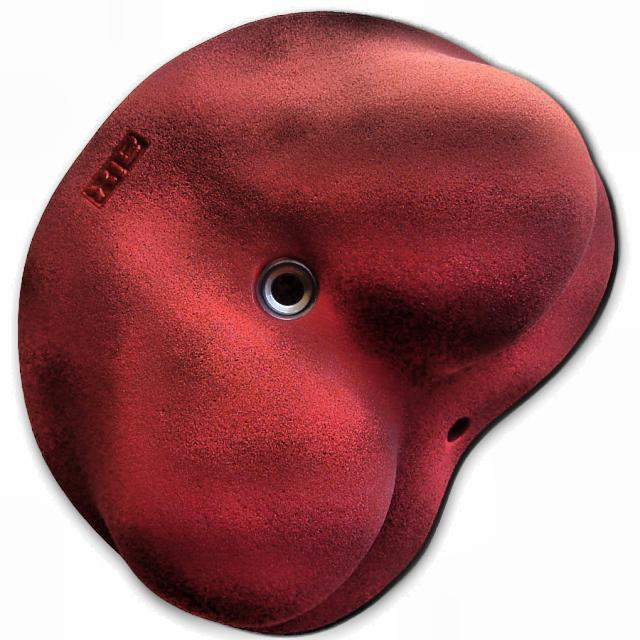Hold: (18, 13, 610, 631)
